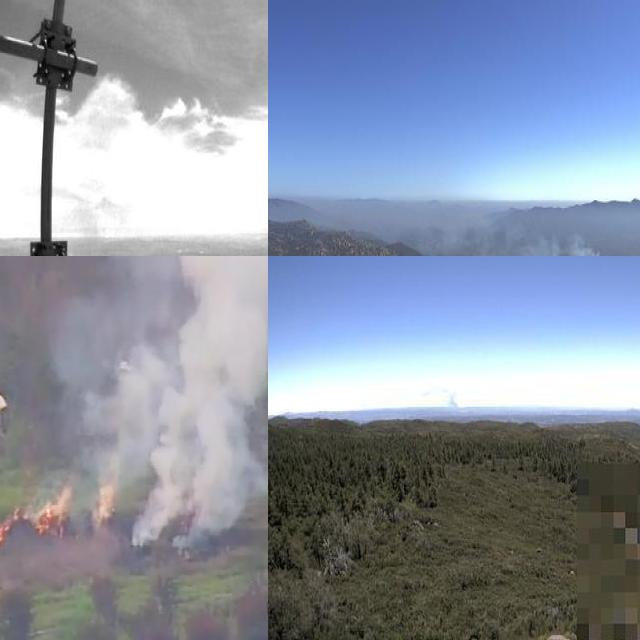fire: (32, 487, 72, 534), (89, 484, 118, 533), (0, 508, 20, 542)
smoke: (43, 256, 268, 550), (433, 216, 627, 256), (66, 198, 118, 256), (442, 392, 462, 411)
